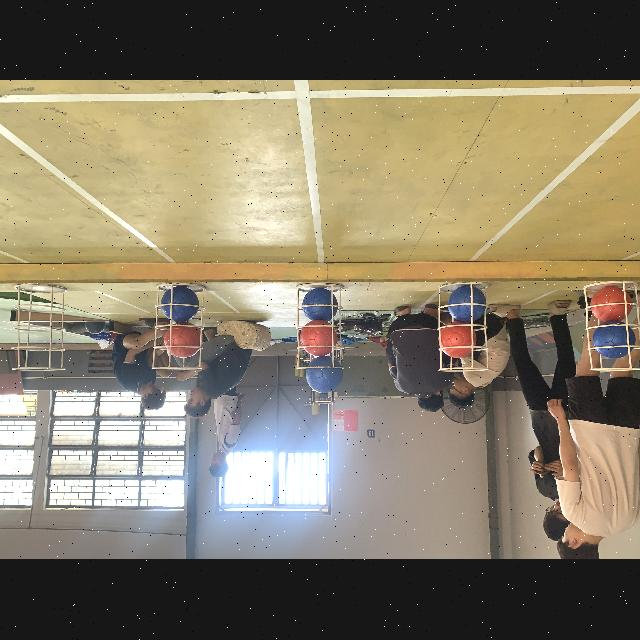B: (446, 285, 486, 321), (594, 325, 634, 359), (302, 286, 338, 322), (160, 286, 198, 320), (308, 356, 342, 394)
R: (592, 286, 630, 324), (164, 321, 202, 359), (439, 320, 476, 358), (299, 320, 337, 356)
